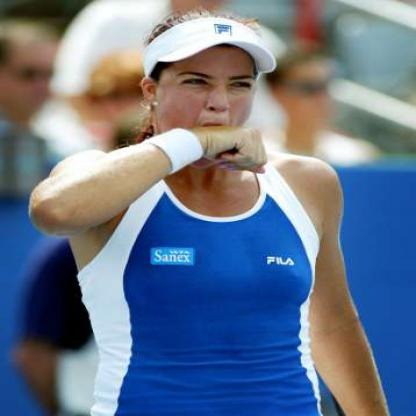face: (159, 19, 258, 168), (1, 30, 66, 124), (109, 65, 172, 138), (285, 69, 338, 135)
